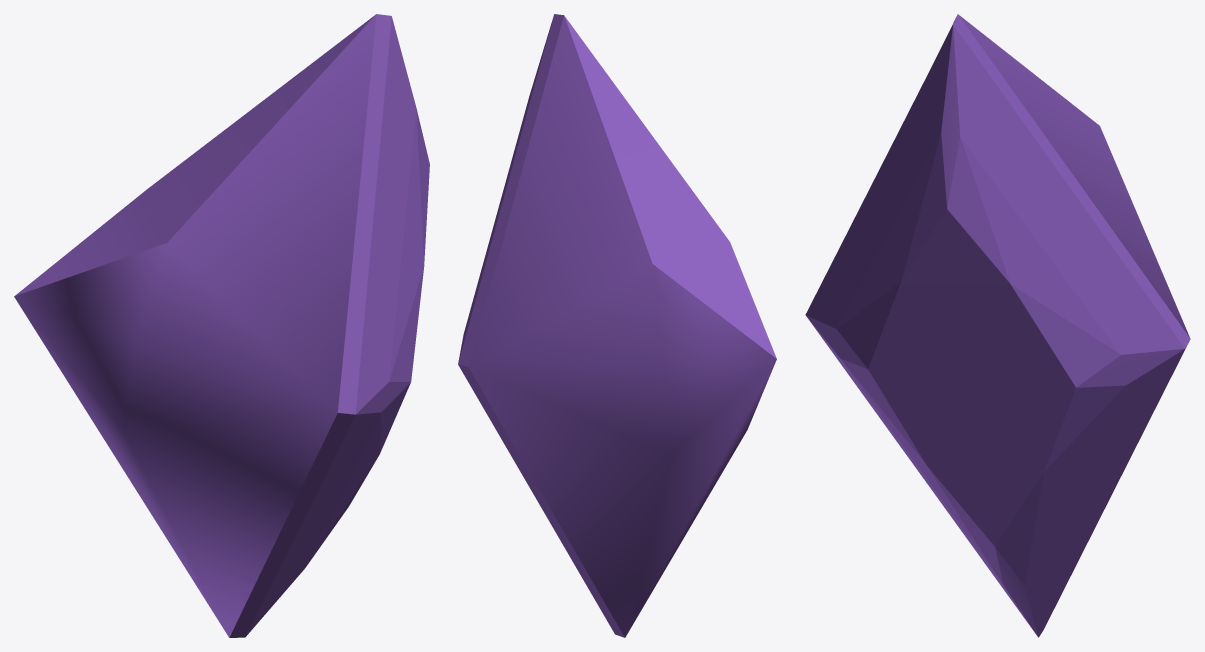
The model's file is TR5_8shapes_Kite_Classic_Stone.001 3.glb.
The picture shows the model from 3 angles, left to right: view 1: azimuth 30°, elevation 25°; view 2: azimuth 150°, elevation 25°; view 3: azimuth 270°, elevation 25°; orthographic projection. The views are drawn at different scales.
Visible parts, largest first — view 1: TR5_8shapes_Kite_Classic_Stone.001; view 2: TR5_8shapes_Kite_Classic_Stone.001; view 3: TR5_8shapes_Kite_Classic_Stone.001.
Boxes of the visible parts, box(x1,y1,x2,y2) form: TR5_8shapes_Kite_Classic_Stone.001: box(14, 14, 429, 637); TR5_8shapes_Kite_Classic_Stone.001: box(458, 14, 776, 637); TR5_8shapes_Kite_Classic_Stone.001: box(805, 14, 1190, 637).
Bounding box in the file's own units: 0.3074 × 0.5284 × 0.2742.
